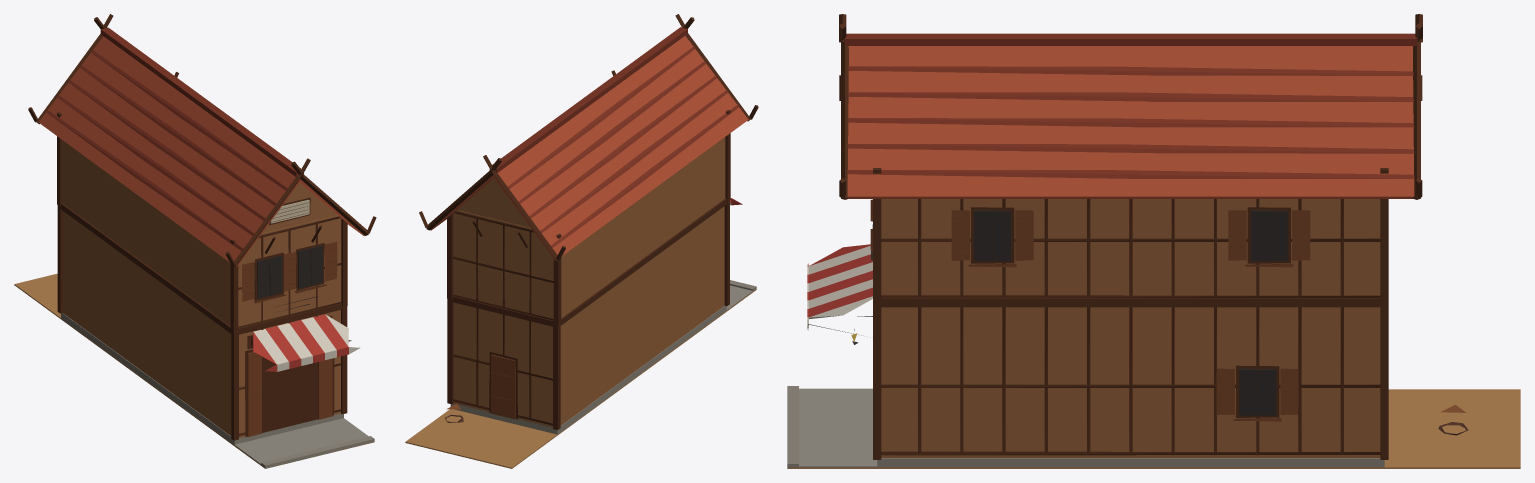
The model's file is bay1_right.glb.
The picture shows the model from 3 angles, left to right: view 1: azimuth 30°, elevation 25°; view 2: azimuth 150°, elevation 25°; view 3: azimuth 270°, elevation 25°; orthographic projection. The views are drawn at different scales.
Parts seen in each view (by area): view 1: body, windows; view 2: body; view 3: body, windows.
Boxes of the visible parts, x1,y1,x2,y2 form: body: (14,14,376,468); windows: (257,245,322,298); body: (405,14,758,468); body: (787,14,1520,468); windows: (851,210,1287,415).
Bounding box in the file's own units: 5.52 × 9.85 × 15.9.
